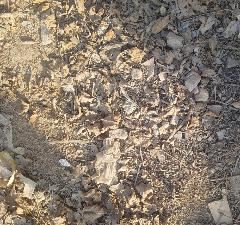organic: (136, 180, 154, 200), (129, 64, 143, 82), (199, 86, 210, 104)
